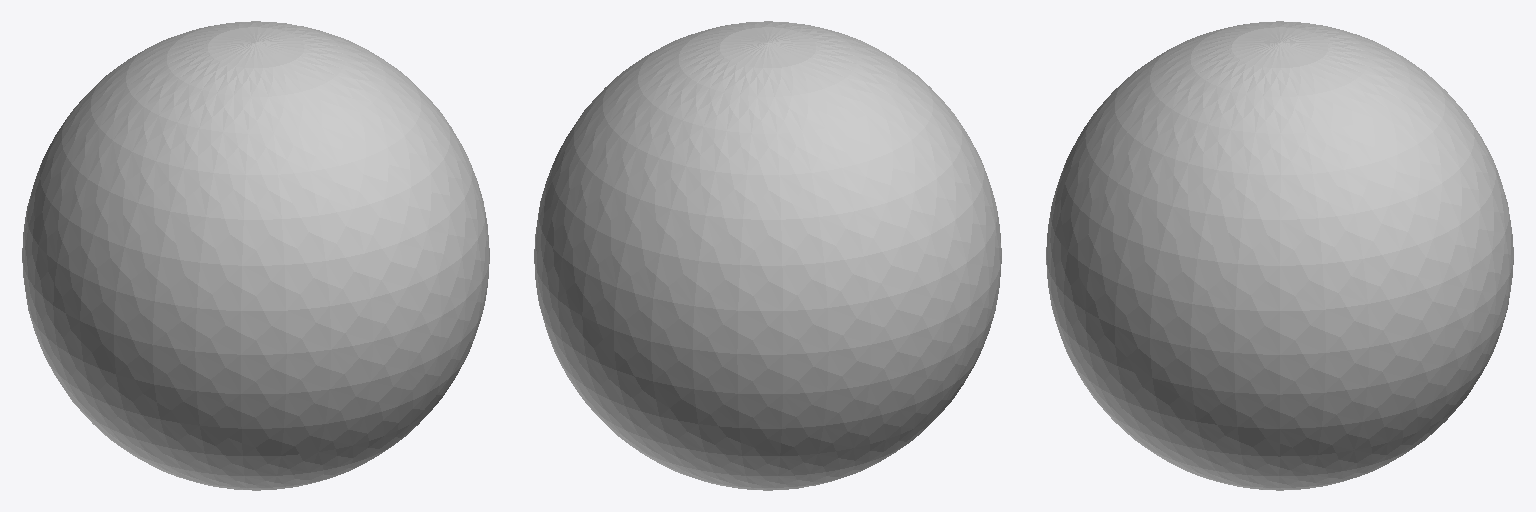
The model's file is earth.obj.
3 renders of one model, left to right at view 1: azimuth 30°, elevation 25°; view 2: azimuth 150°, elevation 25°; view 3: azimuth 270°, elevation 25°, orthographic.
Parts seen in each view (by area): view 1: Earth_Surface.mat_0; view 2: Earth_Surface.mat_0; view 3: Earth_Surface.mat_0.
Boxes of the visible parts, box(x1,y1,x2,y2) form: Earth_Surface.mat_0: box(22, 21, 489, 490); Earth_Surface.mat_0: box(534, 21, 1001, 490); Earth_Surface.mat_0: box(1046, 21, 1513, 490).
Size of the model in its own units: 8.48 by 8.54 by 8.48.